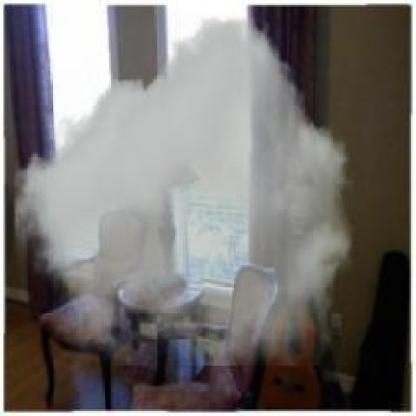Smoke: (14, 17, 352, 366)
